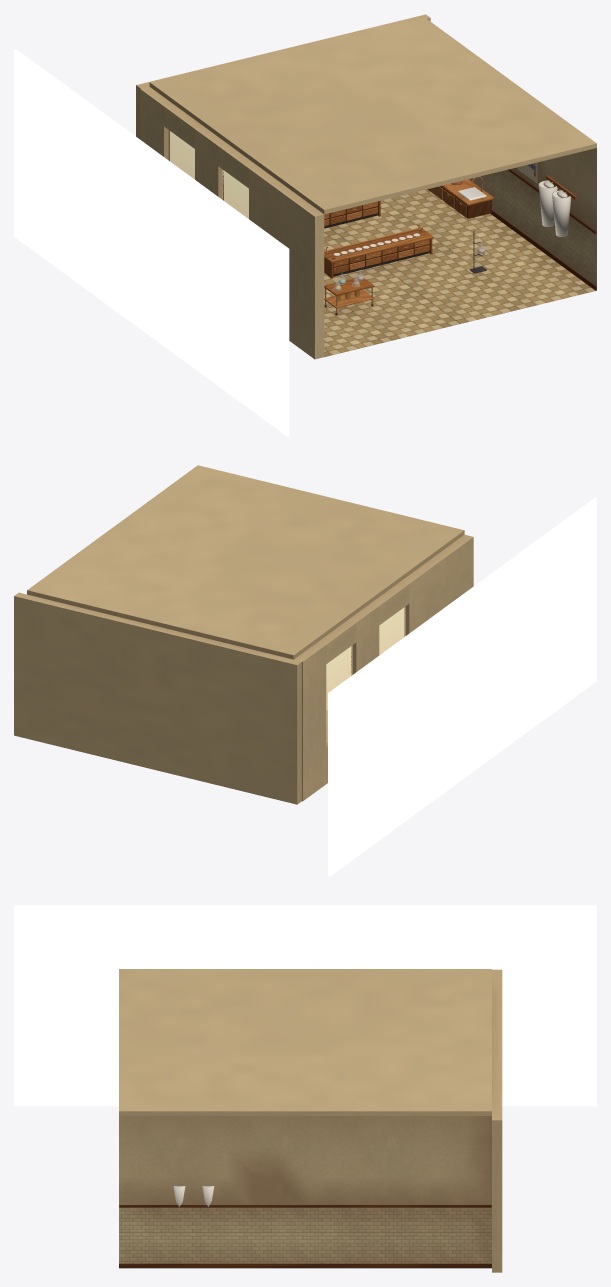
Rendered from chem-prep-room.glb.
3 views of the same model, one above another, from view 1: azimuth 30°, elevation 25°; view 2: azimuth 150°, elevation 25°; view 3: azimuth 270°, elevation 25° (orthographic). The views are drawn at different scales.
Visible parts, largest first — view 1: set_plaster, outside_noshadow, set_floor_tiles, set_subway, set_oak_2, set_oak_0, set_oak_dark, set_oak_1, set_fabric, win_glass_0.1, win_glass_-2.1; view 2: set_plaster, outside_noshadow, win_glass_-2.1, win_glass_0.1; view 3: set_plaster, outside_noshadow, set_subway, set_oak_dark.
Boxes of the visible parts, bbox=[...] form: set_plaster: bbox=[136, 14, 596, 359]; outside_noshadow: bbox=[14, 49, 289, 436]; set_floor_tiles: bbox=[324, 189, 595, 356]; set_subway: bbox=[469, 170, 596, 285]; set_oak_2: bbox=[324, 179, 493, 308]; set_oak_0: bbox=[324, 189, 454, 267]; set_oak_dark: bbox=[324, 169, 596, 290]; set_oak_1: bbox=[168, 130, 576, 295]; set_fabric: bbox=[538, 180, 571, 236]; win_glass_0.1: bbox=[222, 170, 248, 218]; win_glass_-2.1: bbox=[168, 130, 194, 179]; set_plaster: bbox=[14, 465, 473, 804]; outside_noshadow: bbox=[328, 498, 596, 876]; win_glass_-2.1: bbox=[326, 645, 352, 742]; win_glass_0.1: bbox=[379, 607, 405, 654]; set_plaster: bbox=[119, 969, 502, 1272]; outside_noshadow: bbox=[14, 905, 596, 1106]; set_subway: bbox=[119, 1206, 491, 1263]; set_oak_dark: bbox=[119, 1205, 491, 1268].
Size of the model in its own units: 8.62 by 4.2 by 11.1.
40 materials, 10 textured.
